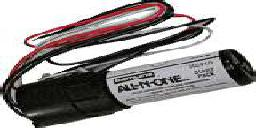Electrolytic Capacitor: (11, 29, 256, 128)
